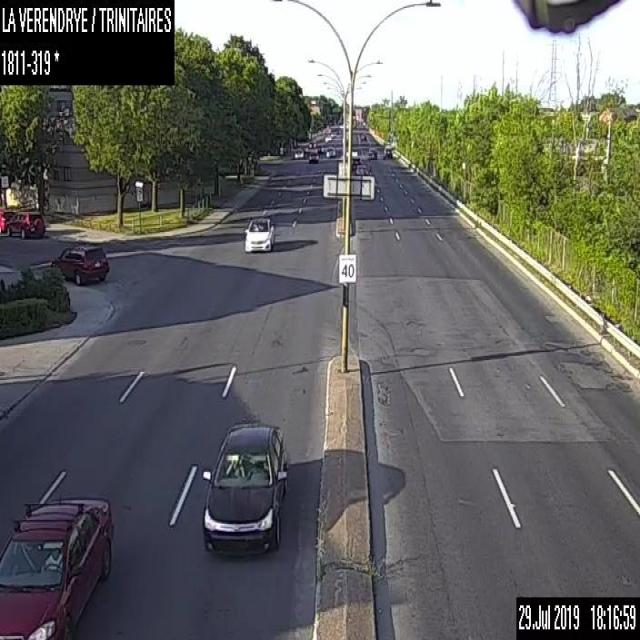vehicle: (0, 494, 114, 638), (200, 420, 290, 556), (49, 241, 109, 284), (243, 215, 275, 252), (6, 210, 45, 238), (0, 206, 15, 237), (355, 163, 369, 174), (382, 144, 392, 159), (350, 155, 360, 169), (308, 150, 318, 162), (345, 148, 357, 157), (368, 146, 377, 158), (324, 147, 334, 157), (294, 147, 304, 157), (316, 145, 324, 153), (324, 134, 332, 142), (308, 140, 315, 148)
